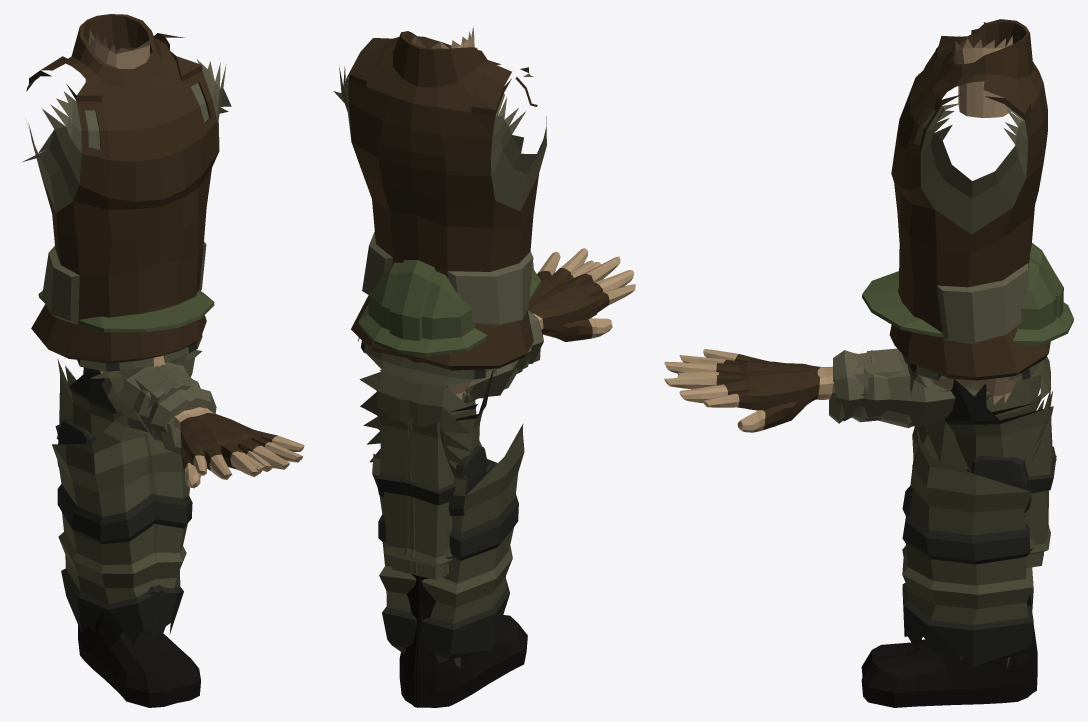
Rendered from soldier.glb.
3 views of the same model, side by side, from view 1: azimuth 30°, elevation 25°; view 2: azimuth 150°, elevation 25°; view 3: azimuth 270°, elevation 25° (orthographic). The views are drawn at different scales.
Parts seen in each view (by area): view 1: torso, thighL, foreR, shinR, thighR, foreL, shinL, head, upperR; view 2: torso, thighL, shinR, head, shinL, foreR, thighR, foreL; view 3: torso, thighR, shinL, foreL, shinR, head, foreR, thighL, upperL.
Part boxes in pixels (left/top/right/bottom): torso: left=22, top=14, right=231, bottom=412; thighL: left=52, top=407, right=165, bottom=643; foreR: left=101, top=366, right=273, bottom=479; shinR: left=56, top=365, right=176, bottom=707; thighR: left=89, top=434, right=192, bottom=637; foreL: left=127, top=362, right=304, bottom=488; shinL: left=55, top=359, right=200, bottom=703; head: left=38, top=290, right=214, bottom=373; upperR: left=104, top=366, right=192, bottom=415; torso: left=333, top=27, right=546, bottom=487; thighL: left=421, top=385, right=524, bottom=662; shinR: left=376, top=404, right=527, bottom=707; head: left=358, top=260, right=541, bottom=399; shinL: left=377, top=370, right=493, bottom=707; foreR: left=463, top=256, right=635, bottom=403; thighR: left=372, top=369, right=497, bottom=668; foreL: left=465, top=248, right=612, bottom=400; torso: left=889, top=19, right=1050, bottom=465; thighR: left=902, top=425, right=1033, bottom=666; shinL: left=861, top=383, right=1056, bottom=707; foreL: left=664, top=353, right=989, bottom=426; shinR: left=861, top=379, right=1056, bottom=693; head: left=862, top=243, right=1073, bottom=404; foreR: left=664, top=349, right=992, bottom=432; thighL: left=902, top=374, right=1043, bottom=668; upperL: left=852, top=351, right=981, bottom=395.
Bounding box in the file's own units: 0.3766 × 1.1 × 0.6166.
